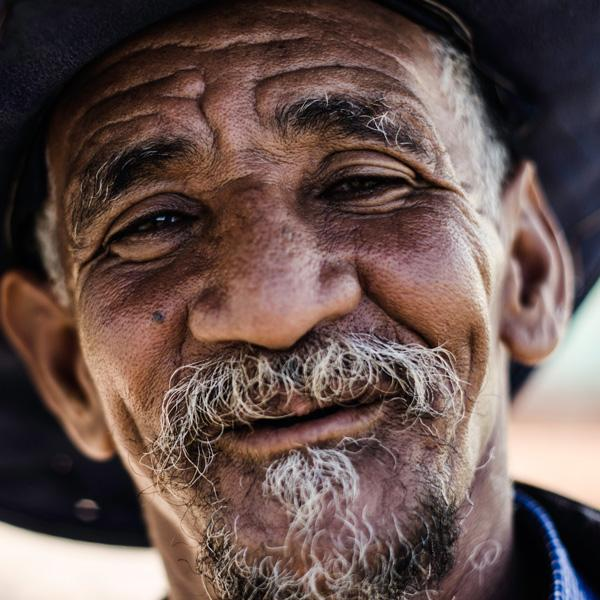Eyes: (97, 180, 216, 270), (301, 141, 425, 224)
